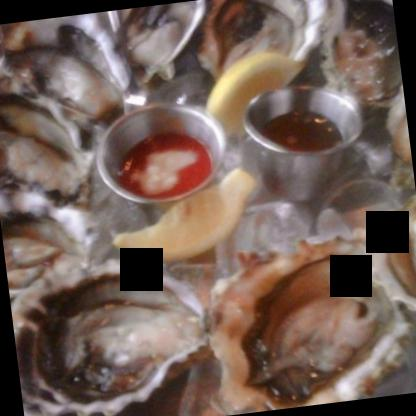oyster: (204, 230, 415, 415), (7, 244, 217, 415), (0, 70, 84, 201)
